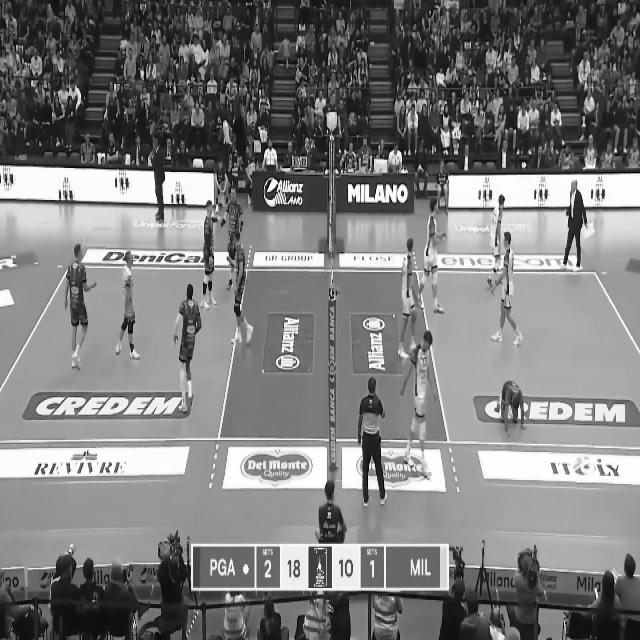volleyball court: (1, 264, 638, 444)
